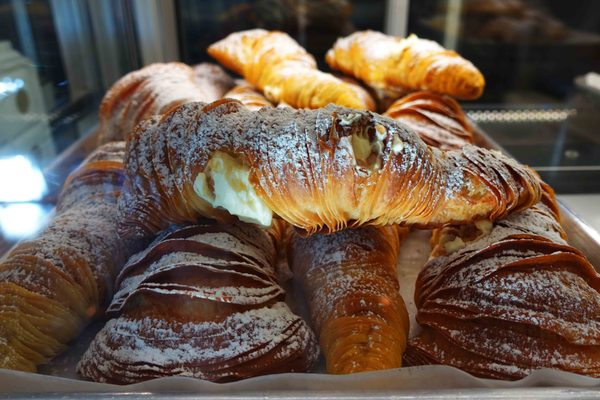salad: (106, 92, 548, 234), (76, 218, 321, 385), (404, 223, 600, 382), (76, 301, 320, 385), (280, 219, 410, 373), (325, 27, 488, 101), (319, 312, 408, 375)
